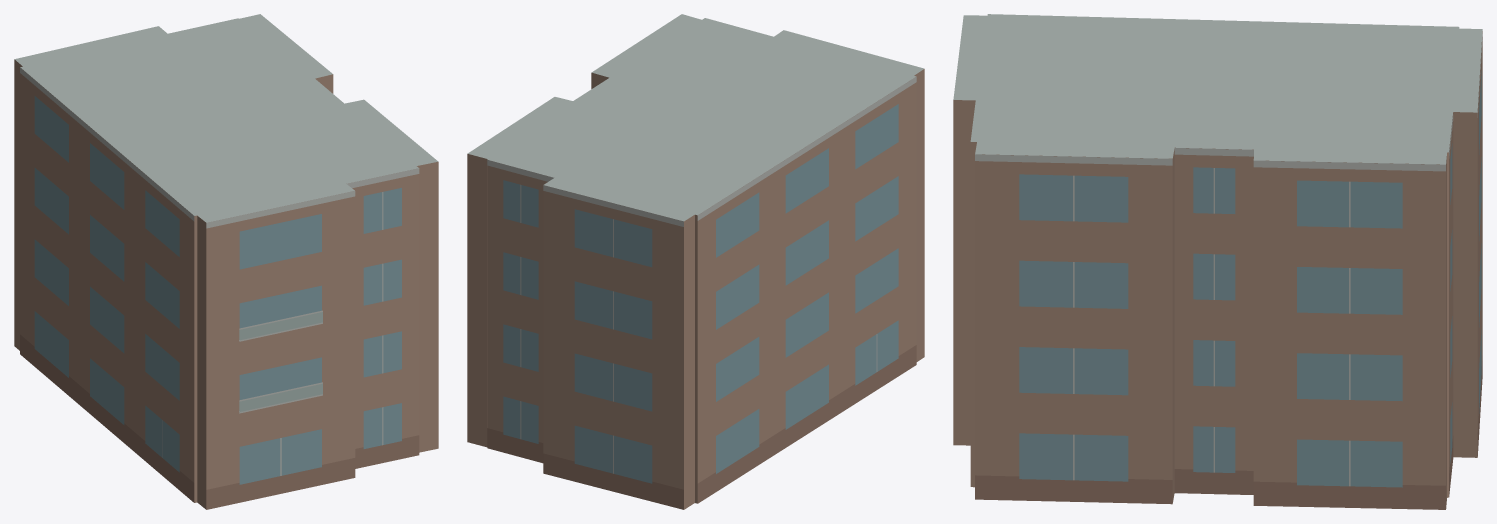
The model's file is survey-upis-32658012.glb.
3 views of the same model, side by side, from view 1: azimuth 30°, elevation 25°; view 2: azimuth 150°, elevation 25°; view 3: azimuth 270°, elevation 25° (orthographic). The views are drawn at different scales.
Parts seen in each view (by area): view 1: survey-upis-32658012.tmp; view 2: survey-upis-32658012.tmp; view 3: survey-upis-32658012.tmp.
Boxes of the visible parts, x1,y1,x2,y2 form: survey-upis-32658012.tmp: (14, 14, 438, 509); survey-upis-32658012.tmp: (467, 14, 924, 509); survey-upis-32658012.tmp: (953, 14, 1482, 509).
Bounding box in the file's own units: 11.51 × 12.3 × 17.1.
